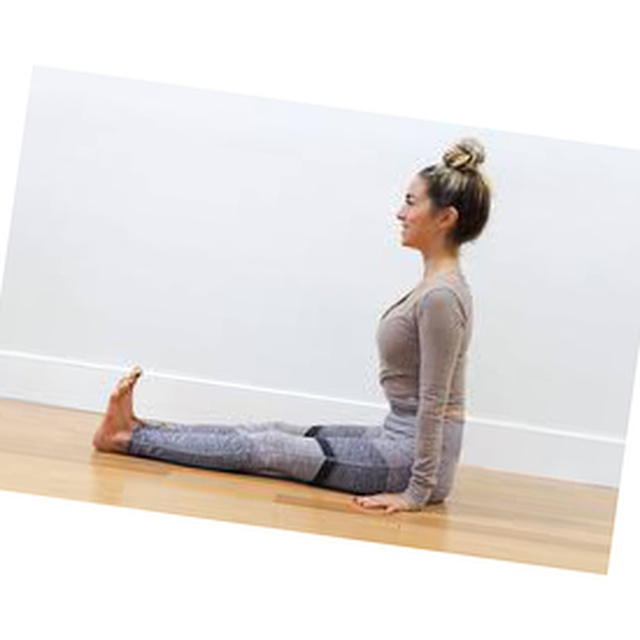Staff_Pose: (93, 134, 493, 514)
